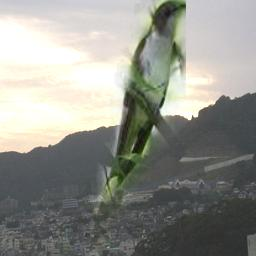Cuckoo: (86, 0, 186, 256)
